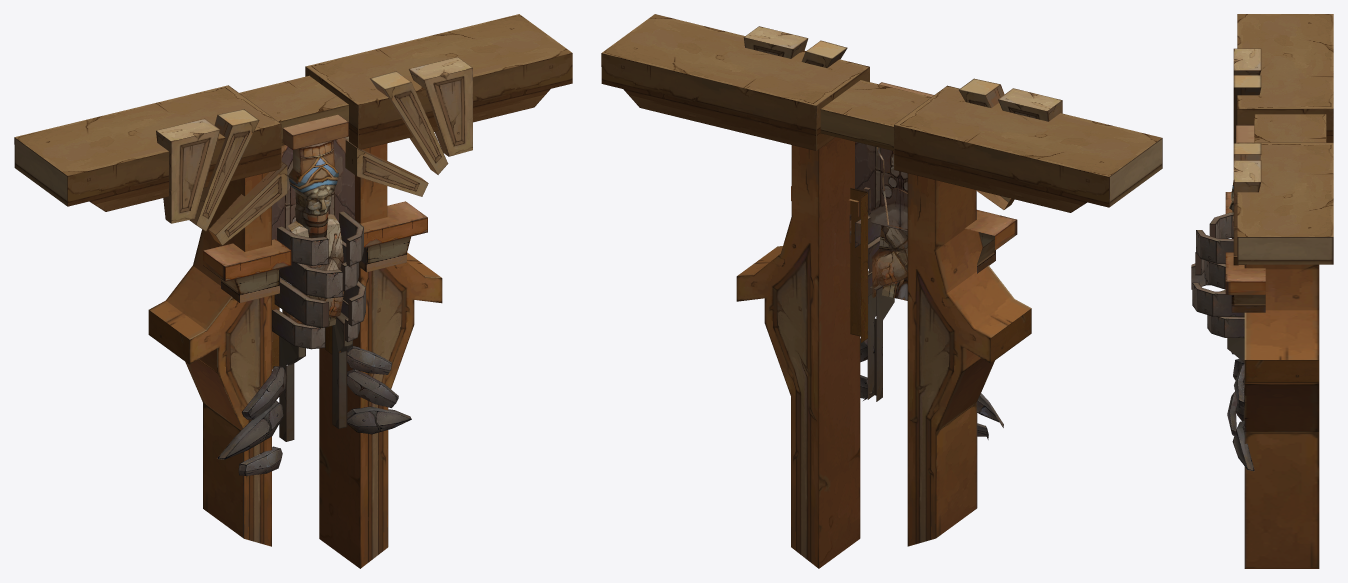
Rendered from 2_DG_DiaoSu_01.FBX.
The picture shows the model from 3 angles, left to right: view 1: azimuth 30°, elevation 25°; view 2: azimuth 150°, elevation 25°; view 3: azimuth 270°, elevation 25°; orthographic projection. The views are drawn at different scales.
Parts seen in each view (by area): view 1: 2_DG_DiaoSu_01; view 2: 2_DG_DiaoSu_01; view 3: 2_DG_DiaoSu_01.
Part boxes in pixels (box(x1,y1,x2,y2)): 2_DG_DiaoSu_01: box(14, 14, 572, 568); 2_DG_DiaoSu_01: box(601, 14, 1162, 568); 2_DG_DiaoSu_01: box(1191, 14, 1333, 568).
Size of the model in its own units: 1341 by 1219 by 362.
